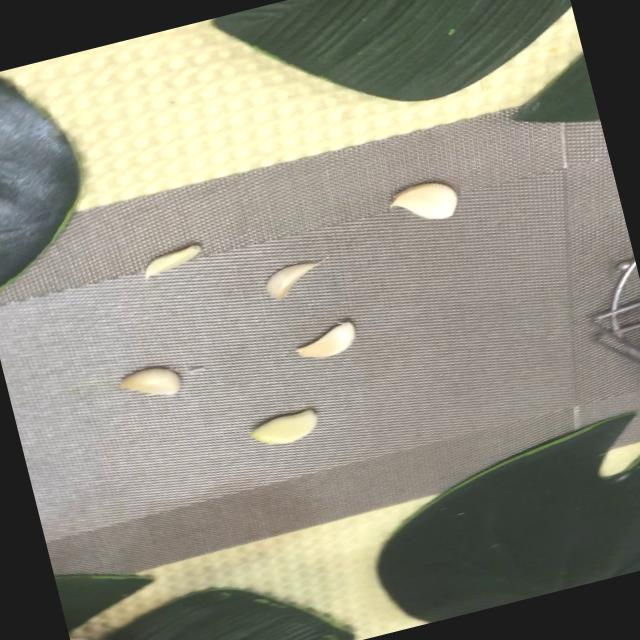garlic: (378, 170, 470, 233), (108, 353, 188, 410), (243, 401, 327, 454), (132, 234, 215, 284), (288, 316, 365, 368), (254, 254, 328, 304)
